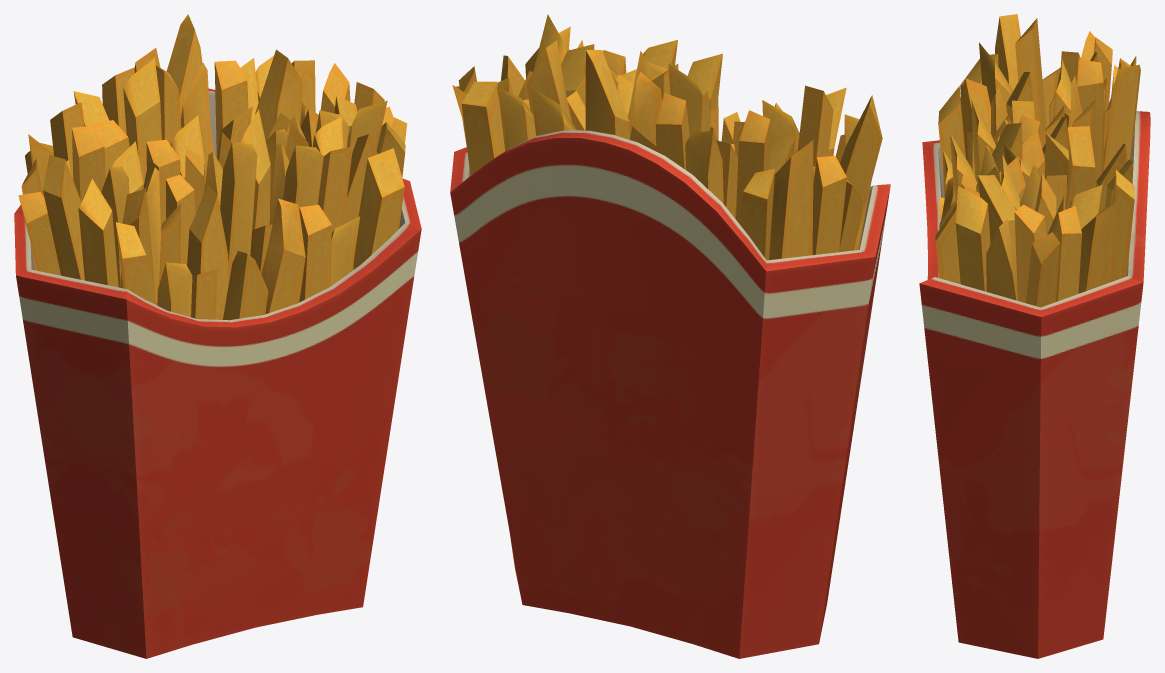
File: French-Fries.fbx
The picture shows the model from 3 angles, left to right: view 1: azimuth 30°, elevation 25°; view 2: azimuth 150°, elevation 25°; view 3: azimuth 270°, elevation 25°; orthographic projection. The views are drawn at different scales.
Visible parts, largest first — view 1: French_Fries; view 2: French_Fries; view 3: French_Fries.
Part boxes in pixels (box(x1,y1,x2,y2)): French_Fries: box(14, 14, 421, 658); French_Fries: box(450, 14, 890, 658); French_Fries: box(919, 14, 1150, 658).
Bounding box in the file's own units: 3.69 × 4.91 × 1.91.
Materials: 1 (1 with a texture image).
